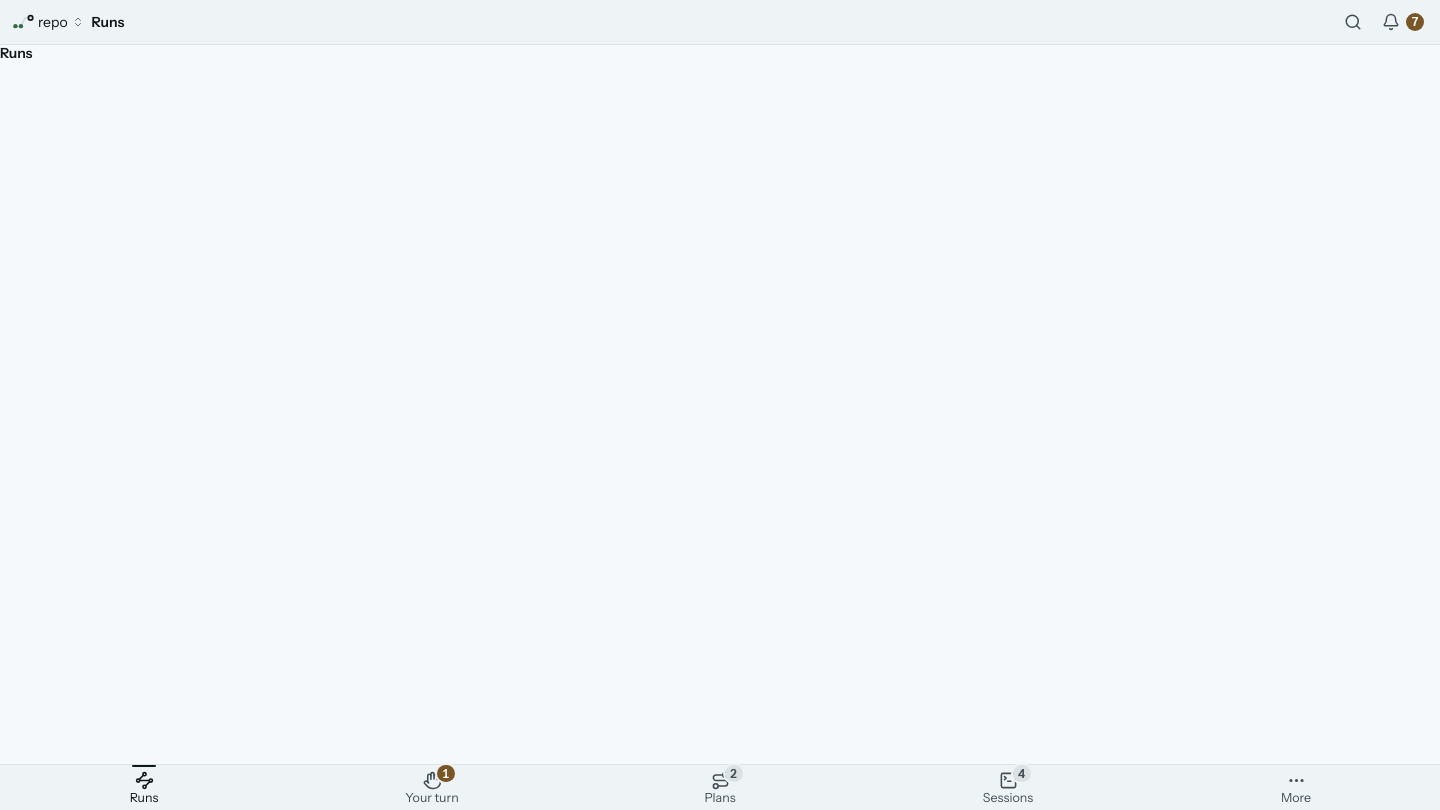
the navigation names itself › names every tab on a phone, and says whether More is open
What coordinates should you click on to do the following:
click the button "More"
I would click on:
 (1296, 787)
Its box is [1152,764,1439,809].
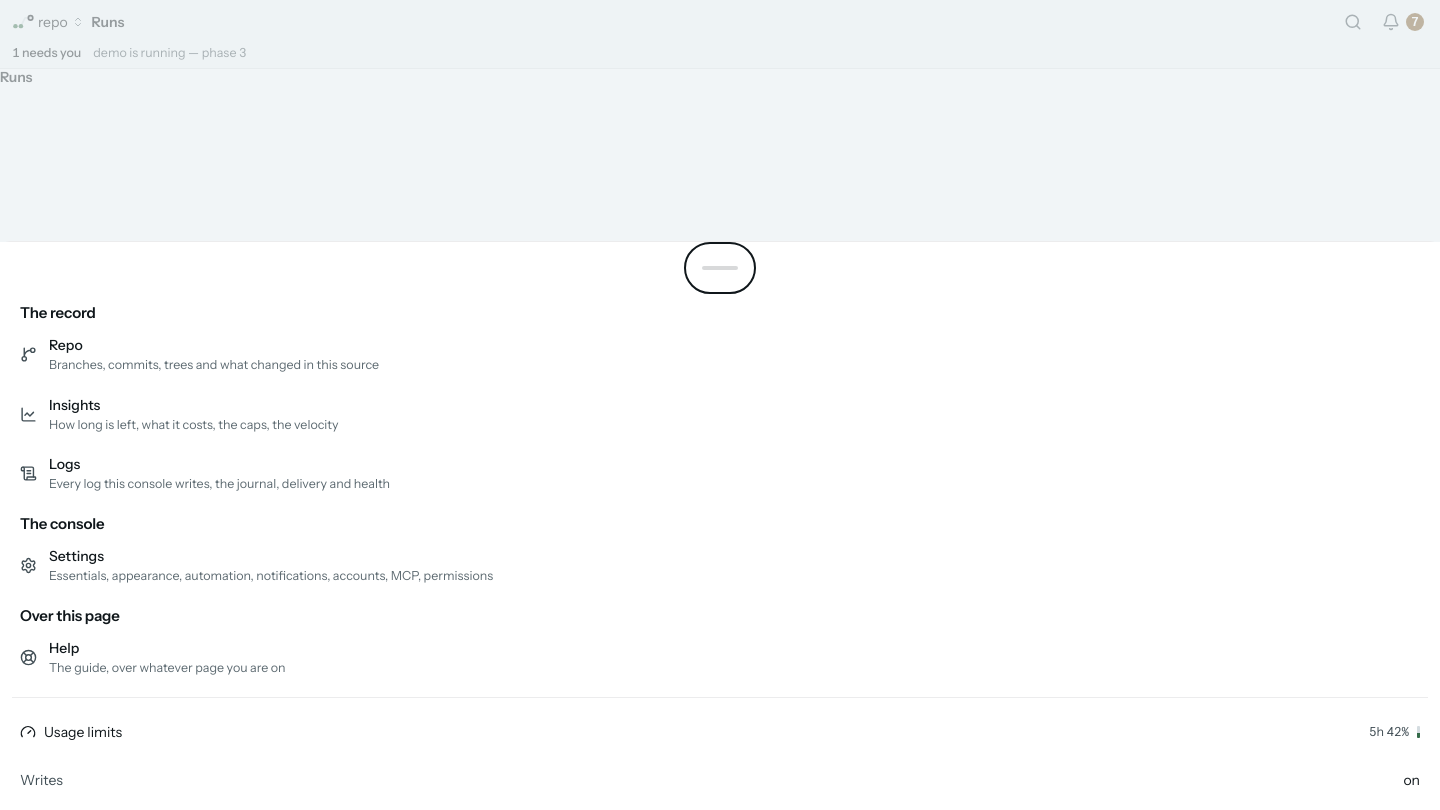
Check: the button "More" is expanded, box [1152,764,1439,809]
Check: the dialog named "More" is shown
